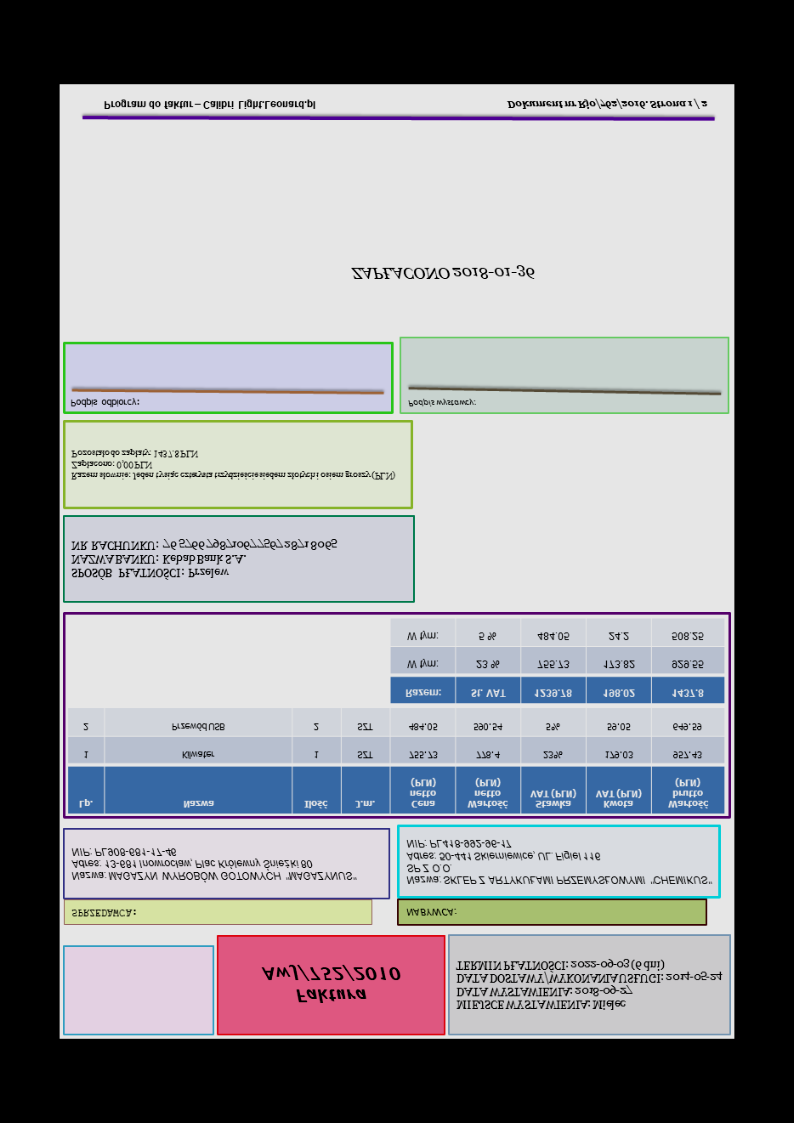Table: (67, 707, 725, 814), (388, 617, 726, 706)
TextBox: (403, 837, 714, 888), (455, 956, 724, 1014), (70, 536, 338, 585), (70, 446, 398, 483), (70, 845, 360, 884), (258, 961, 405, 1007), (348, 264, 540, 284), (101, 97, 318, 114), (506, 96, 710, 114), (69, 396, 141, 413), (69, 906, 138, 922), (405, 397, 475, 411), (403, 906, 457, 921)
